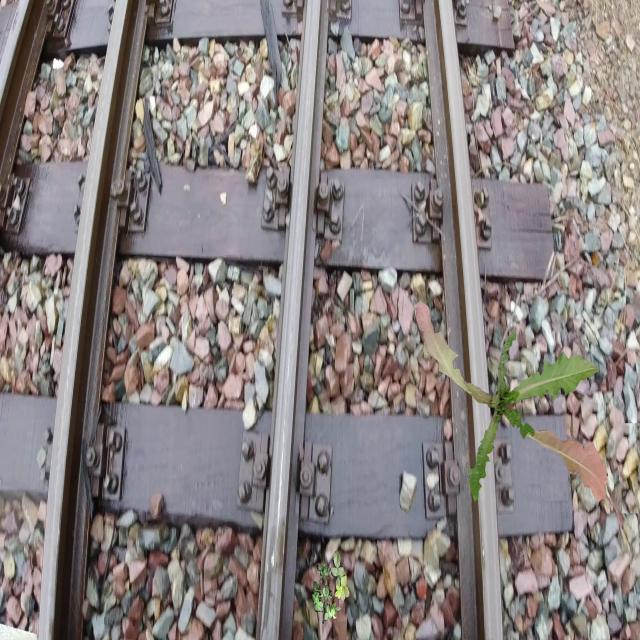Plant: (415, 301, 608, 504), (312, 551, 350, 624)
